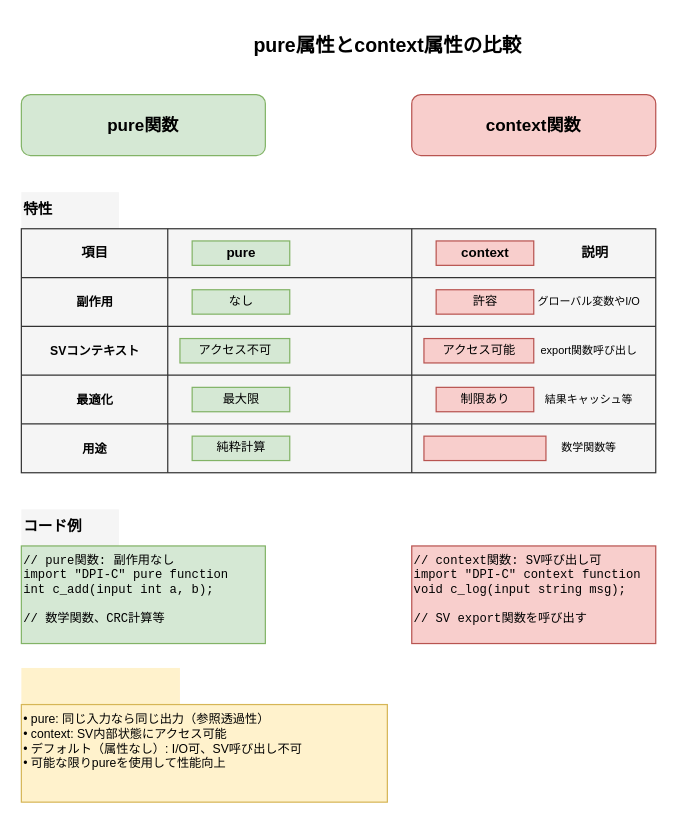
This 678x824 diagram has some shape labels left out. Here are the shapes that lost their labels. From the top down, the centre of each, then its label:
the point at 484,448: SV呼び出し、VPI
the point at 100,685: 使い分けのポイント
